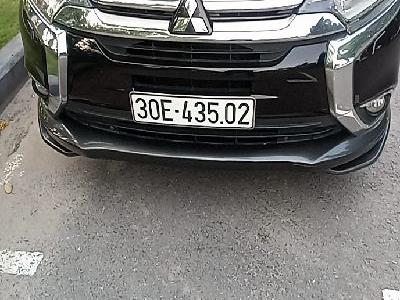lisence: (127, 89, 257, 131)
